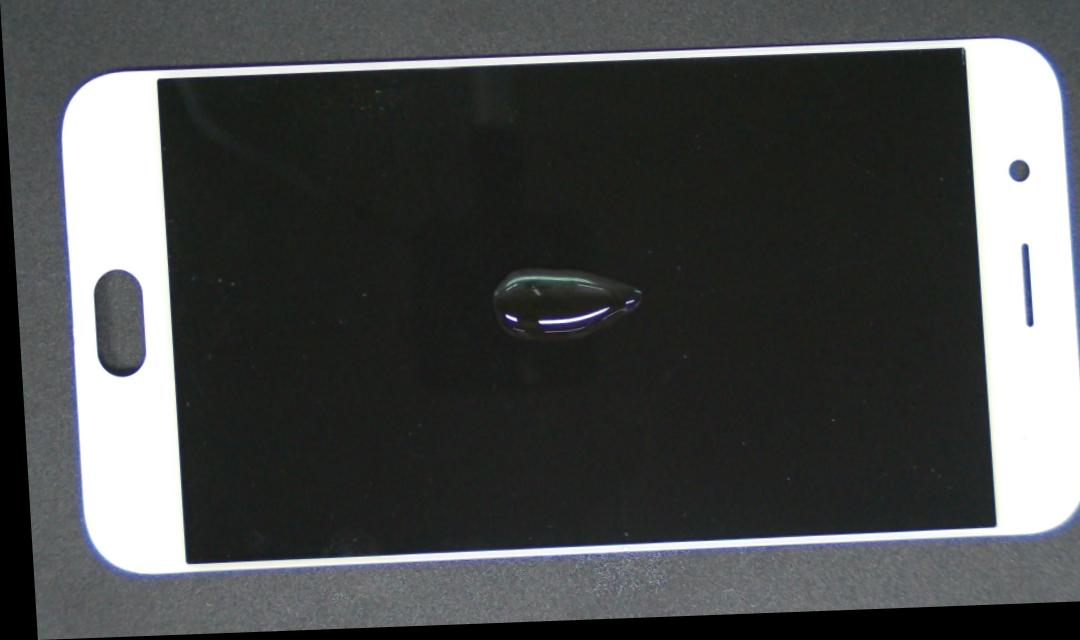oil: (444, 247, 681, 380)
